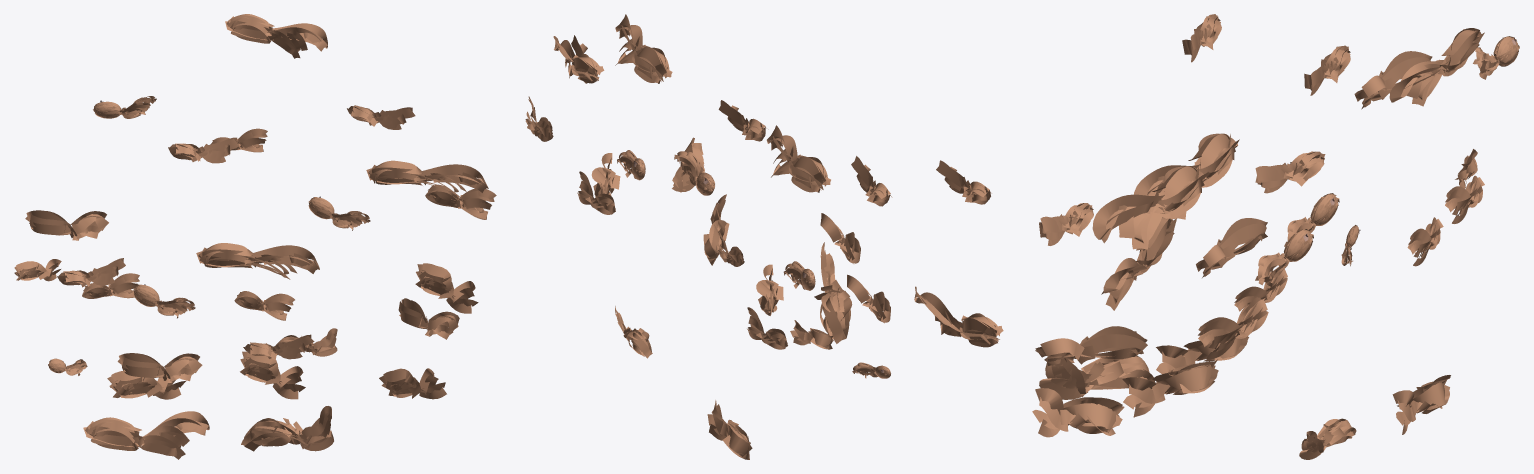
The model's file is fishies.glb.
3 views of the same model, side by side, from view 1: azimuth 30°, elevation 25°; view 2: azimuth 150°, elevation 25°; view 3: azimuth 270°, elevation 25° (orthographic). The views are drawn at different scales.
Visible parts, largest first — view 1: brush_Paper_g0_b0_0; view 2: brush_Paper_g0_b0_0; view 3: brush_Paper_g0_b0_0.
Boxes of the visible parts, x1,y1,x2,y2 form: brush_Paper_g0_b0_0: [14, 14, 496, 459]; brush_Paper_g0_b0_0: [525, 14, 1003, 459]; brush_Paper_g0_b0_0: [1032, 14, 1519, 459].
Size of the model in its own units: 9.06 by 6.89 by 6.5.
